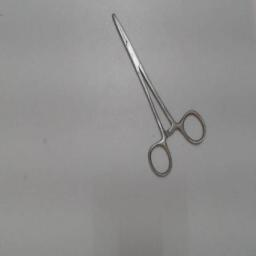Mayo Needle Holder: (102, 2, 212, 182)
